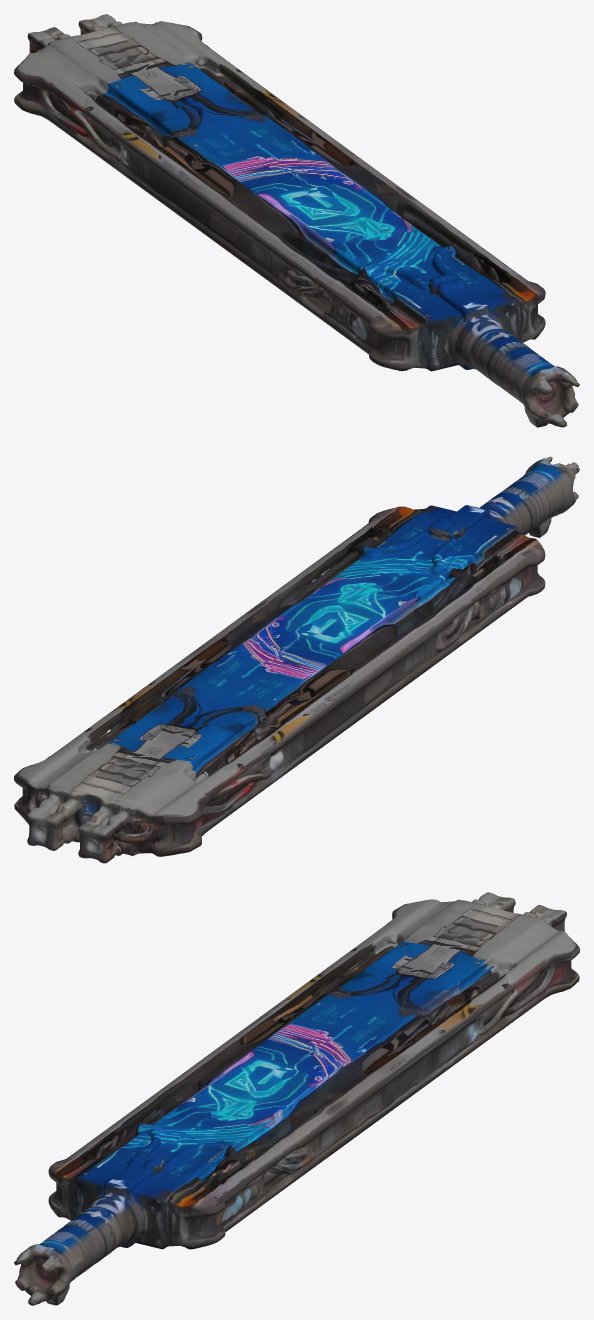
File: arc_blade.glb
3 renders of one model, top to bottom at view 1: azimuth 30°, elevation 25°; view 2: azimuth 150°, elevation 25°; view 3: azimuth 330°, elevation 25°, orthographic.
Parts seen in each view (by area): view 1: ArcBlade; view 2: ArcBlade; view 3: ArcBlade.
Boxes of the visible parts, bbox=[...] form: ArcBlade: bbox=[14, 14, 579, 427]; ArcBlade: bbox=[14, 456, 579, 863]; ArcBlade: bbox=[14, 892, 579, 1305].
Bounding box in the file's own units: 0.2611 × 0.1101 × 1.25.
1 material, 1 textured.
